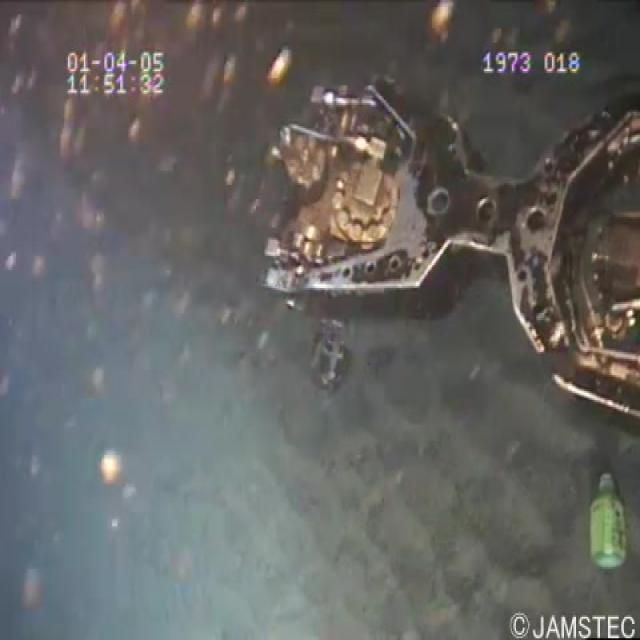plastic: (579, 462, 629, 583)
